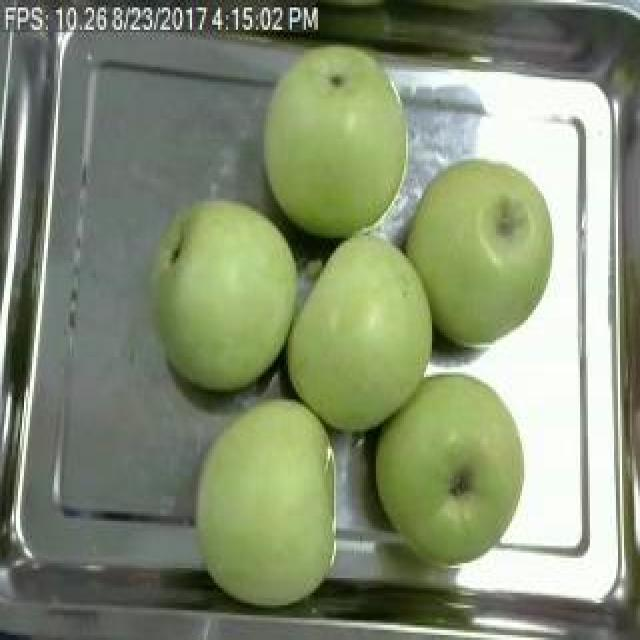Rotten Apple: (402, 150, 564, 351), (155, 183, 299, 400), (262, 46, 408, 249), (200, 387, 334, 605), (295, 222, 437, 425), (388, 375, 524, 583)
